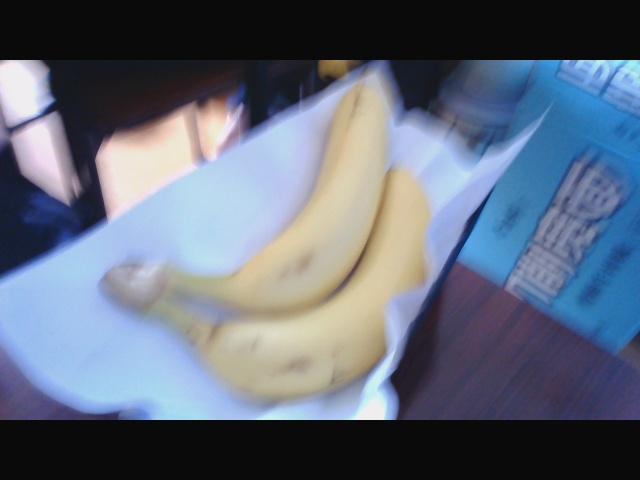banana: (111, 111, 424, 381)
